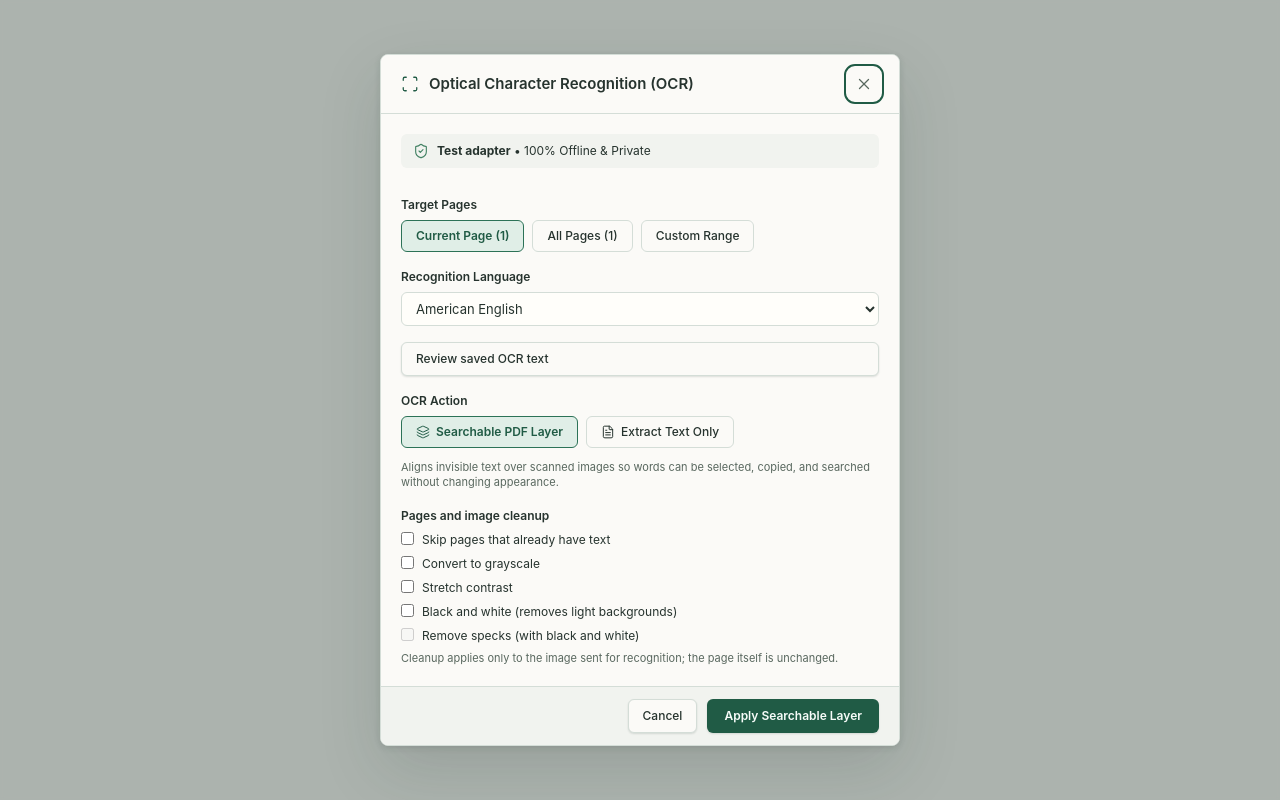
Test: OcrPanel UI Component (P6.4) › warns when target page contains existing digital text
Click the button "Apply Searchable Layer".
click(793, 716)  # box 707,699 -> 879,733
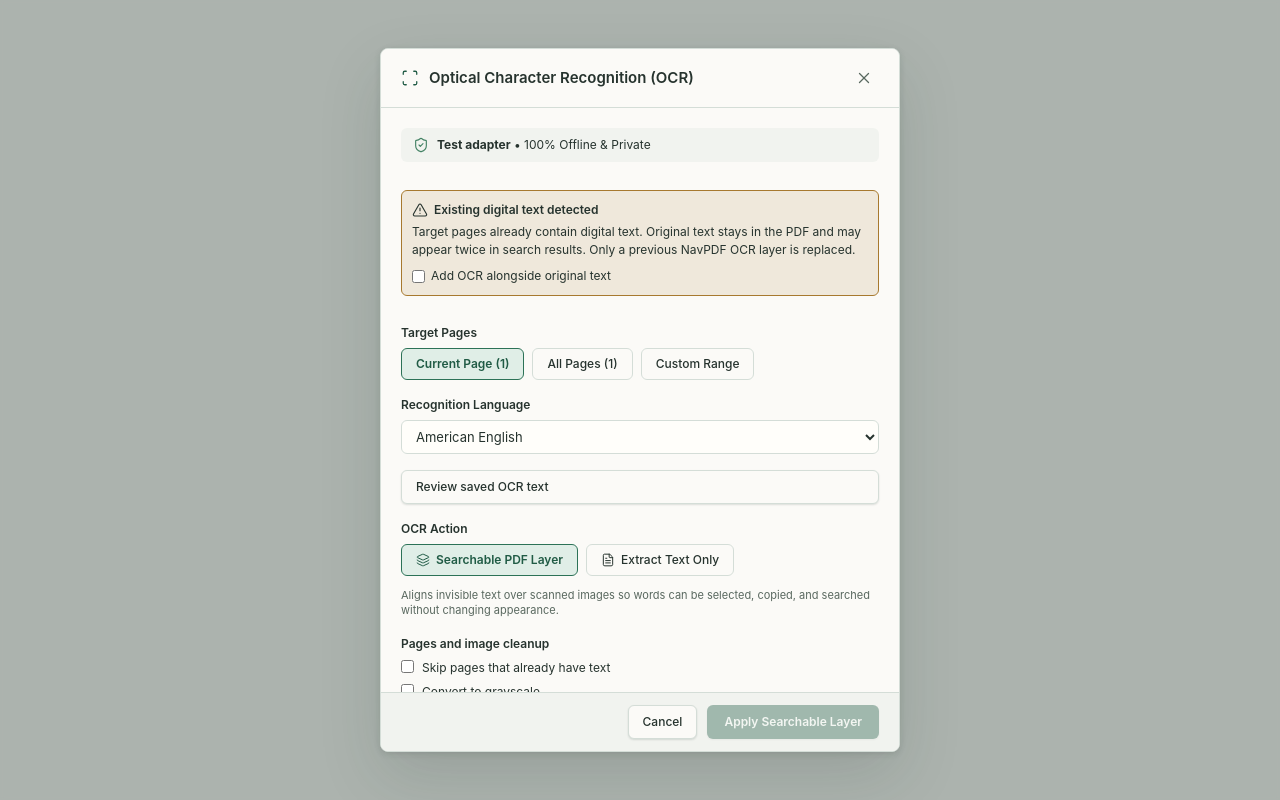
Check: the message is shown, box 401,190 -> 879,296
Check: the text "Existing digital text detected" is shown, box 434,201 -> 598,219
Note: Check the "Replace existing text" checkbox
Click the checkbox labelled "Add OCR alongside original text".
click(418, 276)  # box 412,270 -> 425,282
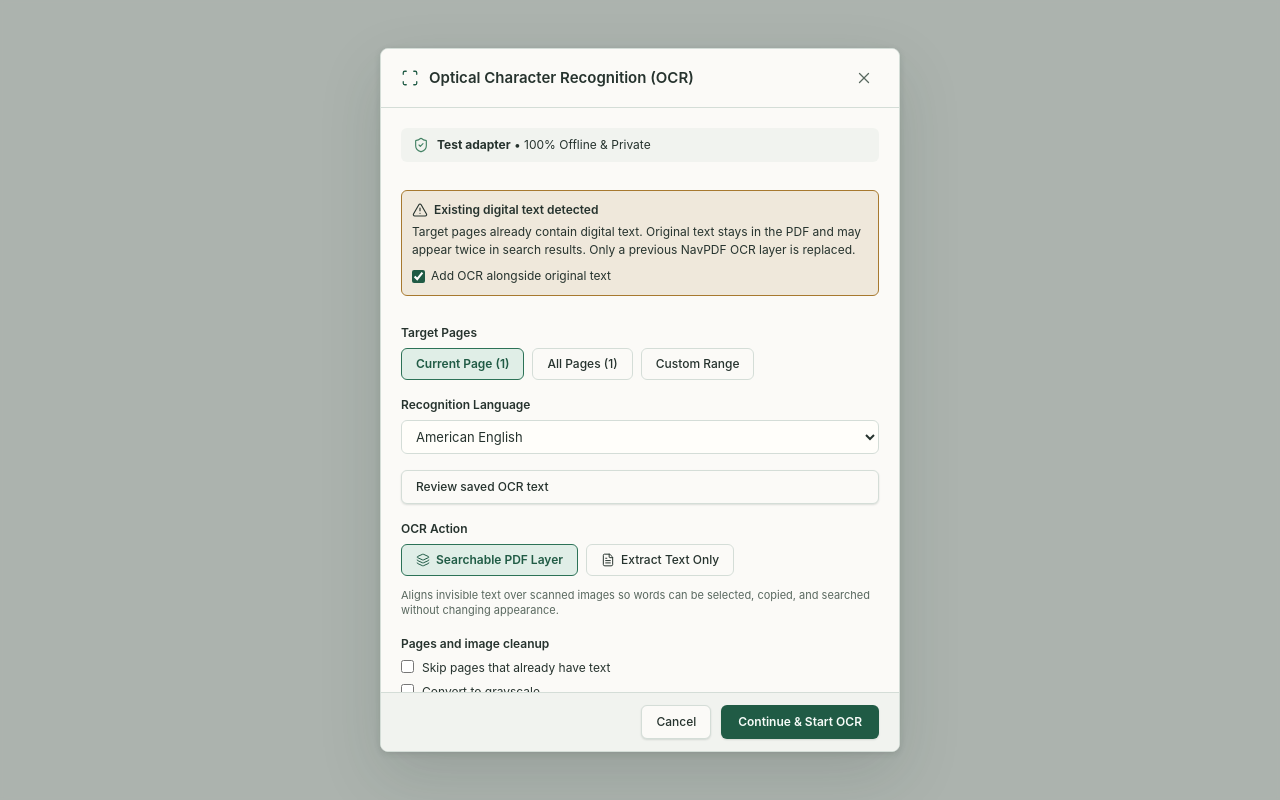
Check: the button "Continue & Start OCR" is shown, box 721,705 -> 879,739
